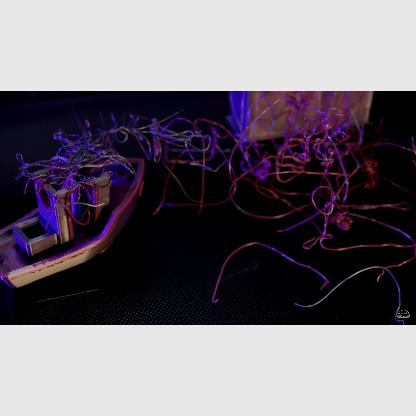fail: (237, 136, 415, 284), (71, 112, 231, 162)
